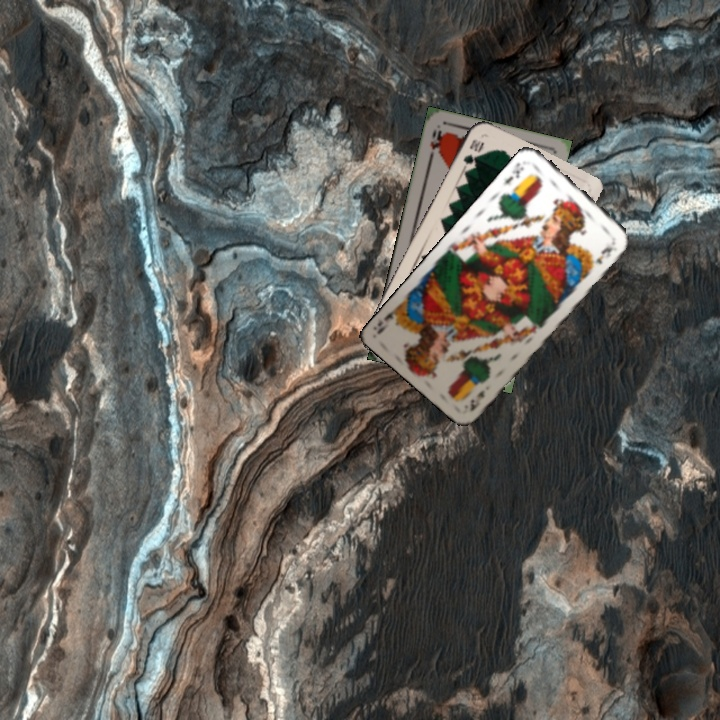EK: (500, 158, 527, 188), (465, 385, 488, 414)
G10: (459, 135, 486, 167)
HO: (424, 125, 445, 164)
